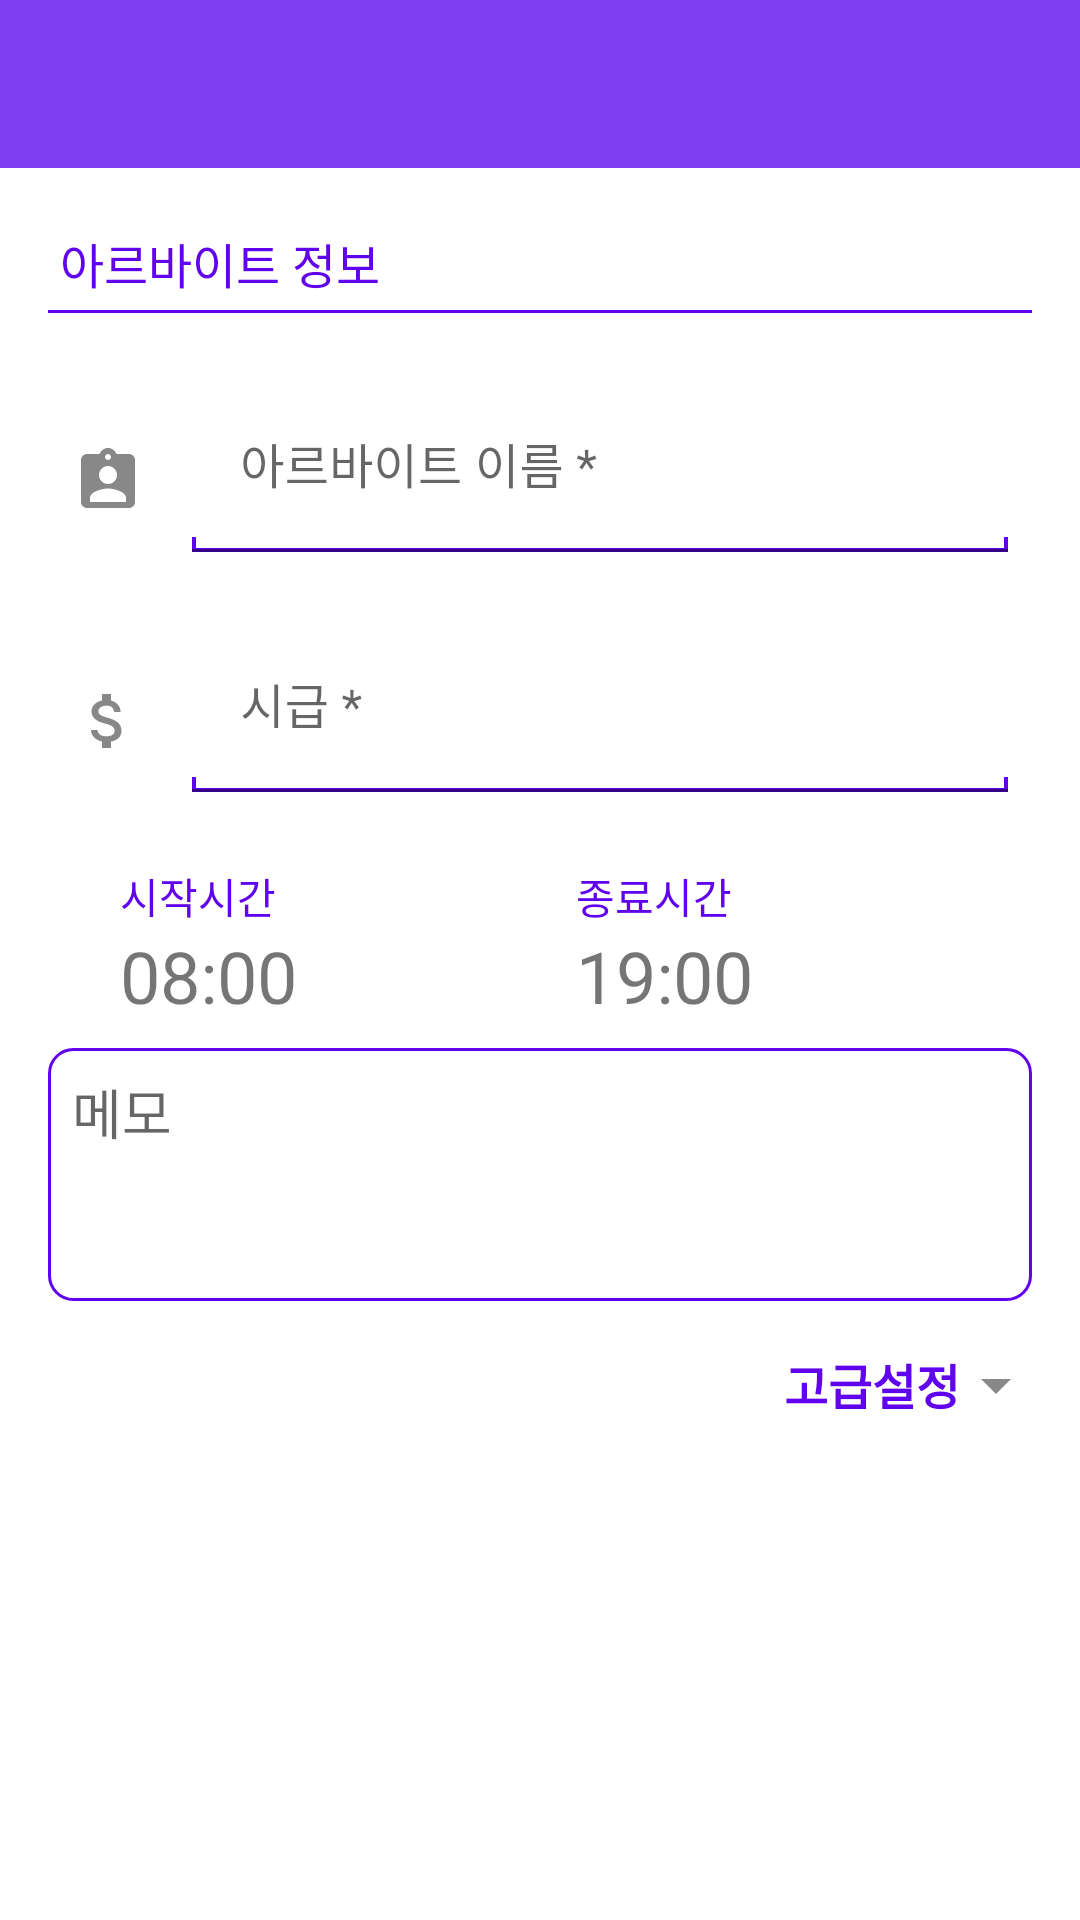

Icons on this 1080w x 1920h Android screen, each with its box as (x1, y1, x2, y2):
arrow drop down: (981, 1379, 1011, 1394)
assignment ind: (81, 448, 135, 508)
attach money: (91, 694, 122, 748)
